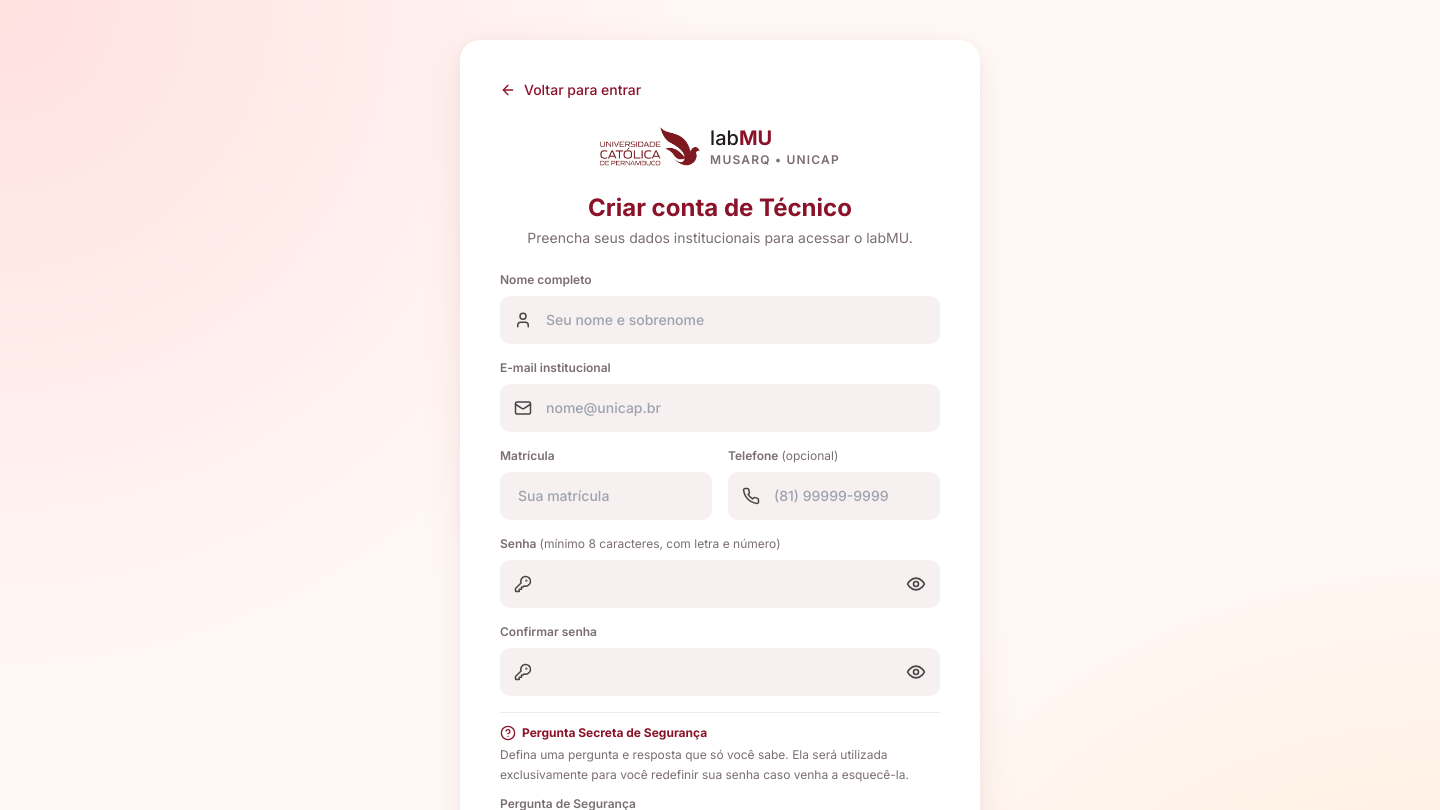
Scenario: RegisterPage: validação › exige e-mail institucional
In the field labelled "Nome completo": (720, 320) 500,296 -> 940,344, type "Maria Técnica"
In the field labelled "E-mail institucional": (720, 408) 500,384 -> 940,432, type "maria@gmail.com"
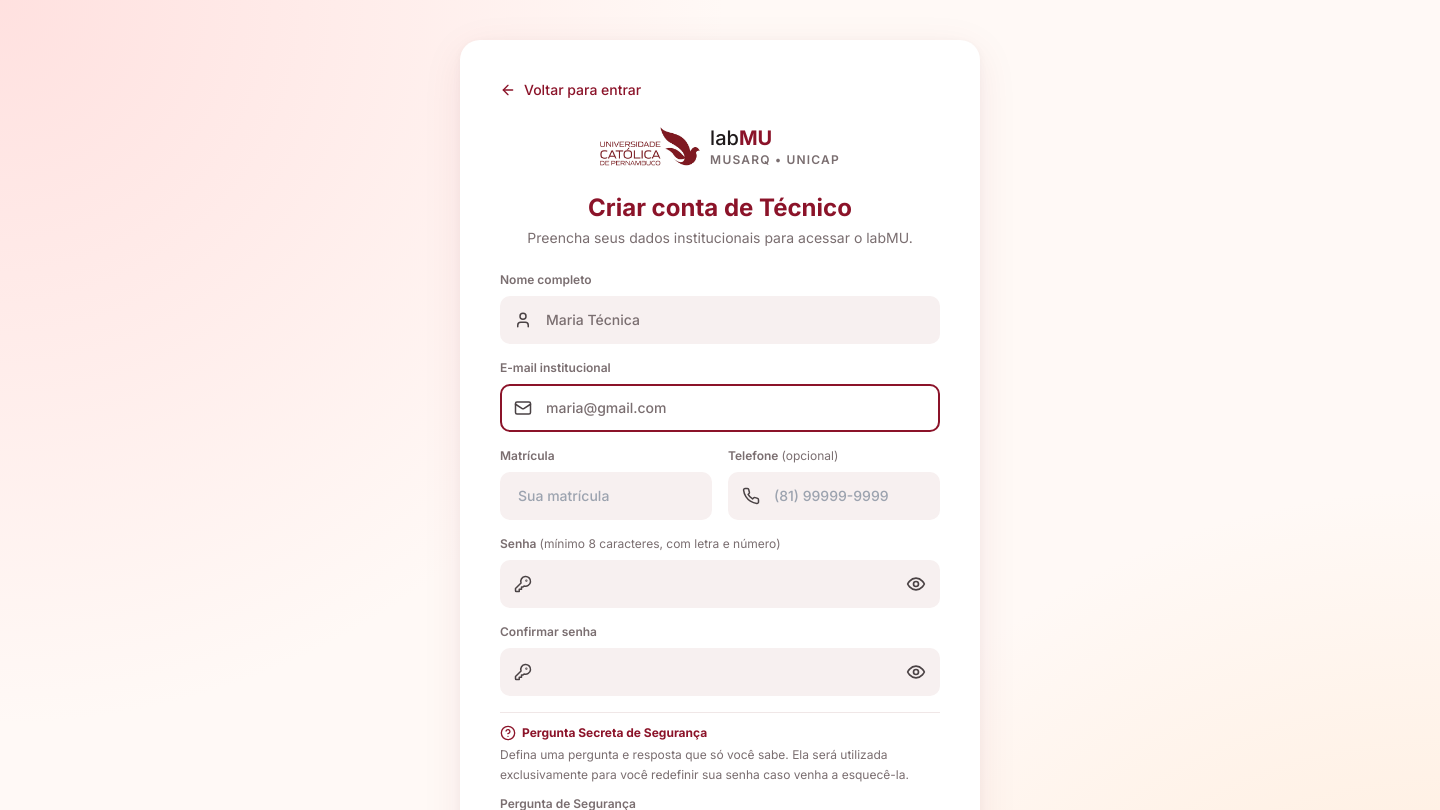
In the field labelled "Matrícula": (606, 496) 500,472 -> 712,520, type "2019123"
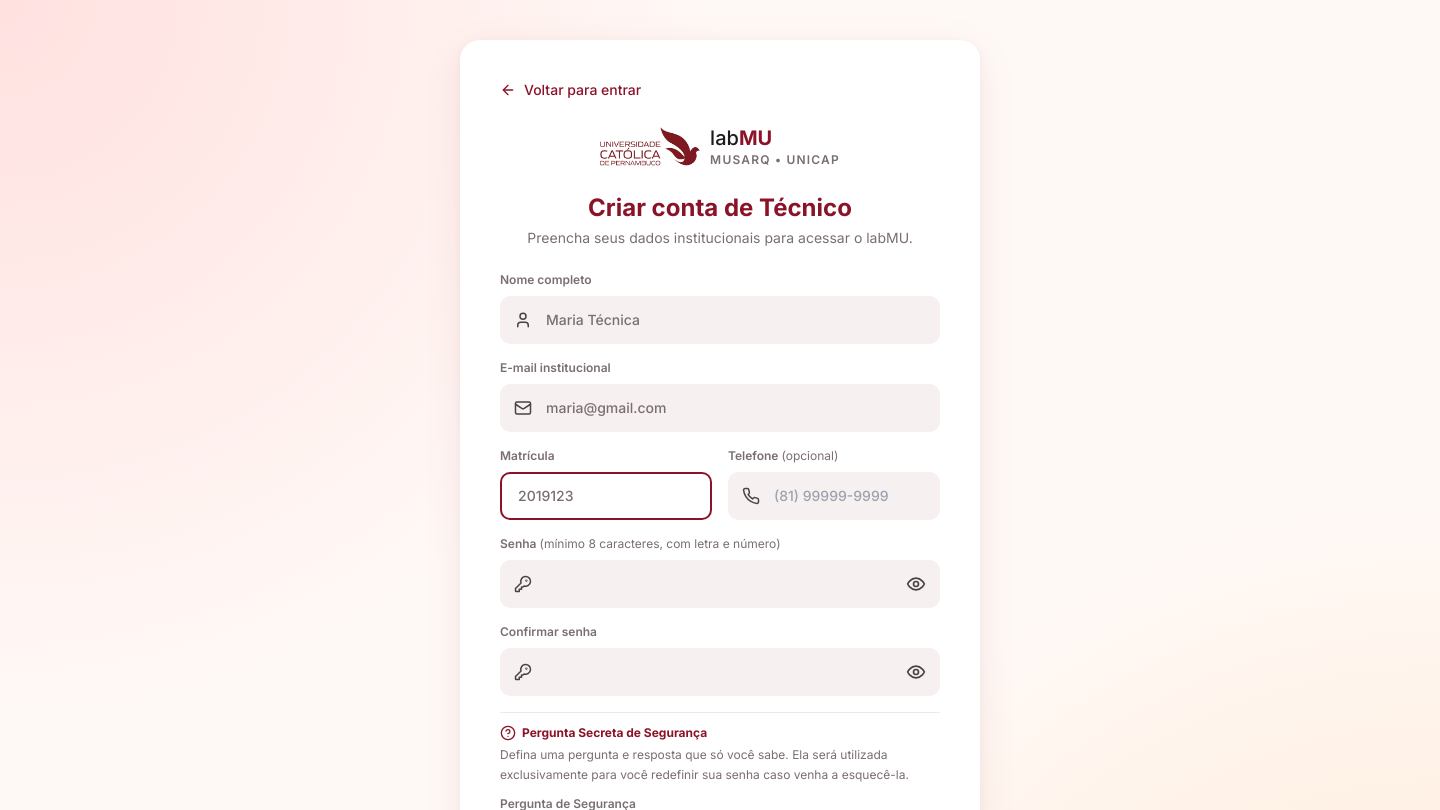
In the password field labelled "Senha (mínimo 8 caracteres, com letra e número)": (720, 584) 500,560 -> 940,608, type "SenhaForte@123"
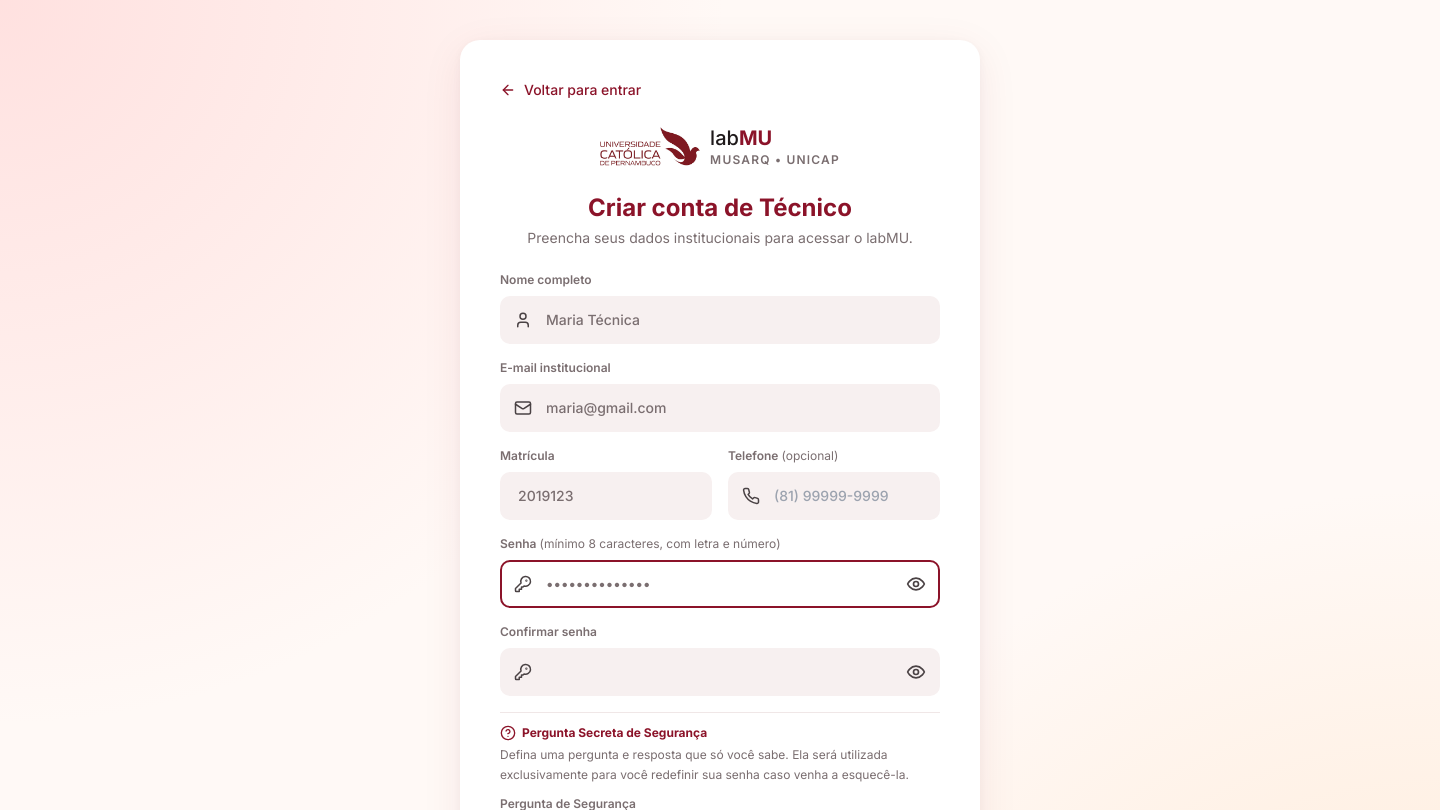
In the password field labelled "Confirmar senha": (720, 672) 500,648 -> 940,696, type "SenhaForte@123"
(page scrolled)
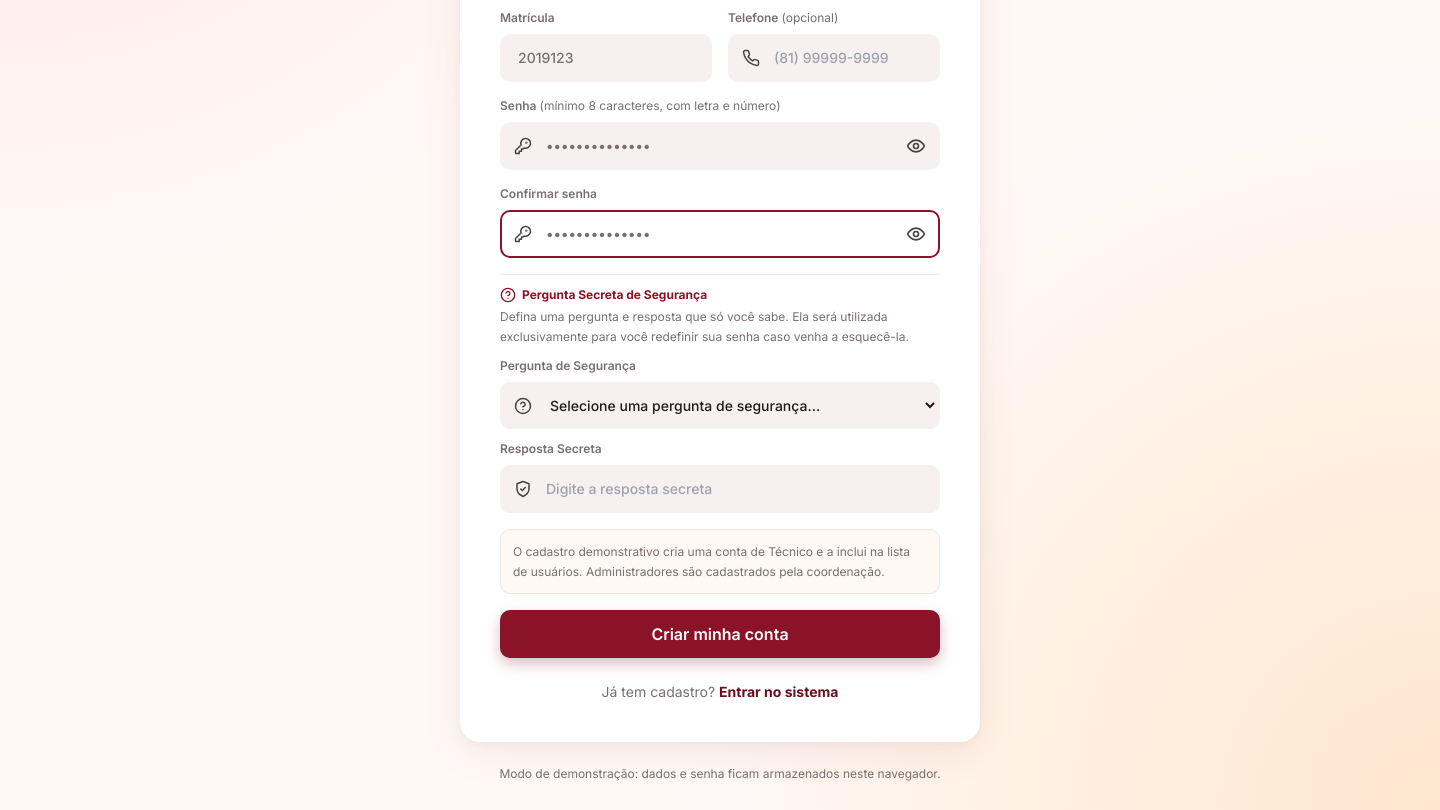
Select "Qual o nome do seu primeiro animal de estimação?" in the dropdown labelled "Pergunta de Segurança": (720, 406) 500,382 -> 940,429
In the field labelled "Resposta Secreta": (720, 489) 500,465 -> 940,513, type "Totó"
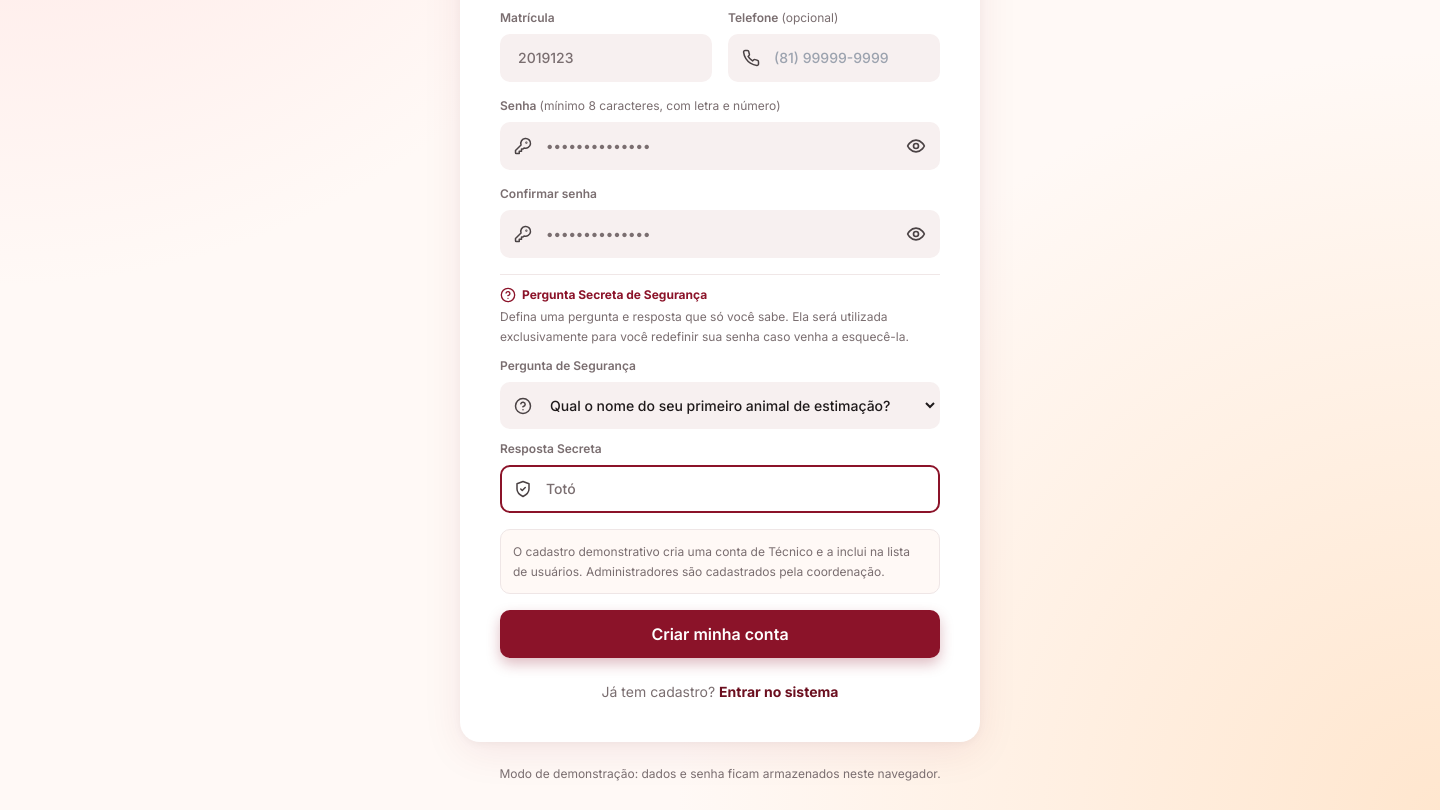
Click the button "Criar minha conta": (720, 634) 500,610 -> 940,658
(page scrolled)
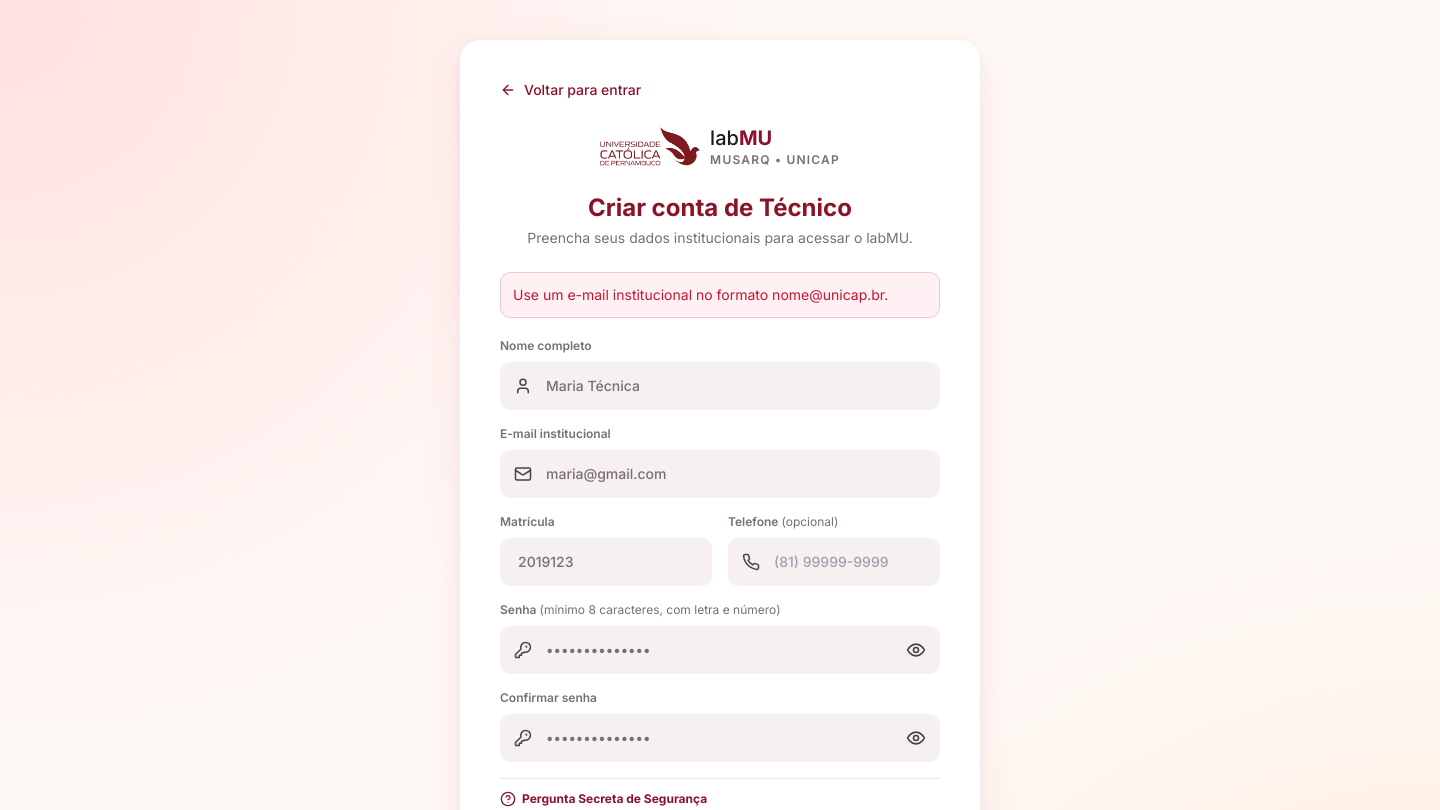
Now the text "Use um e-mail institucional no formato nome@unicap.br." is shown, box 500,272 -> 940,318
